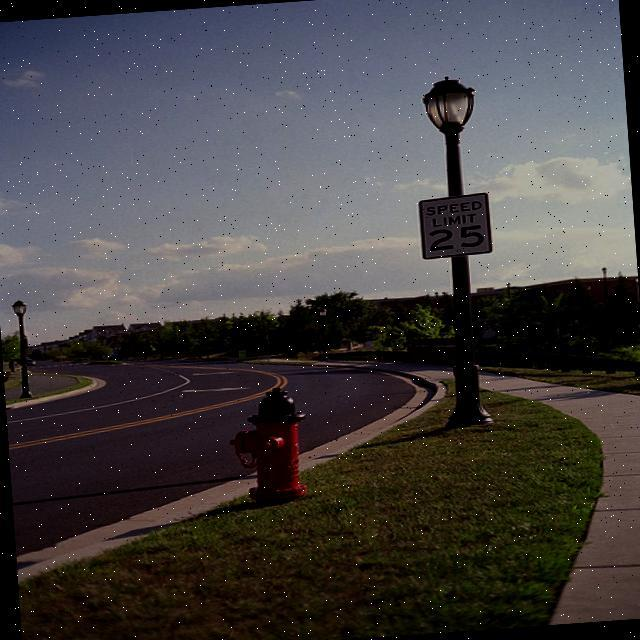fire_hydrant: (225, 386, 308, 504)
